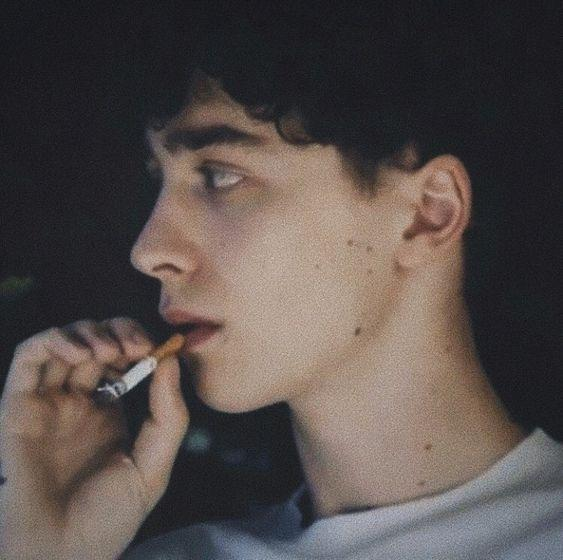cigarette: (97, 334, 185, 399)
